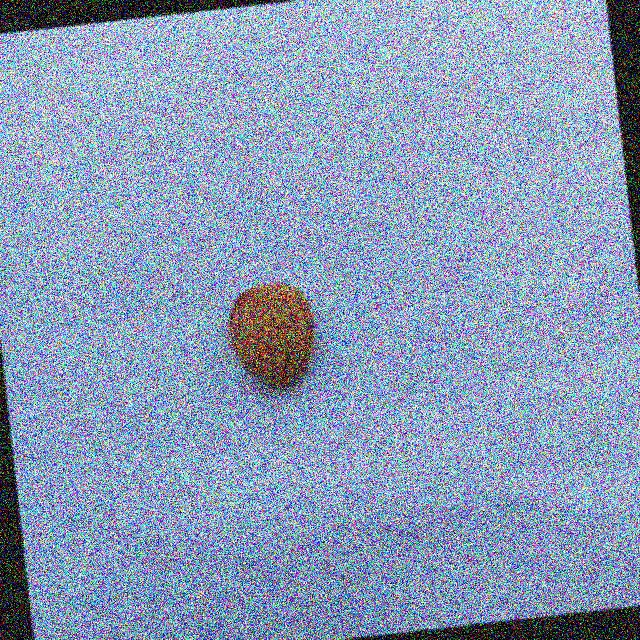grade1: (217, 272, 331, 404)
